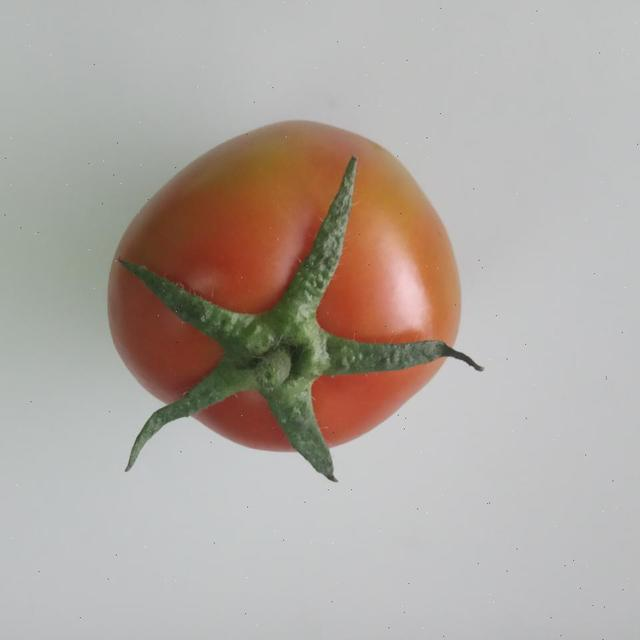Healthy Fruit: (70, 78, 307, 304)
